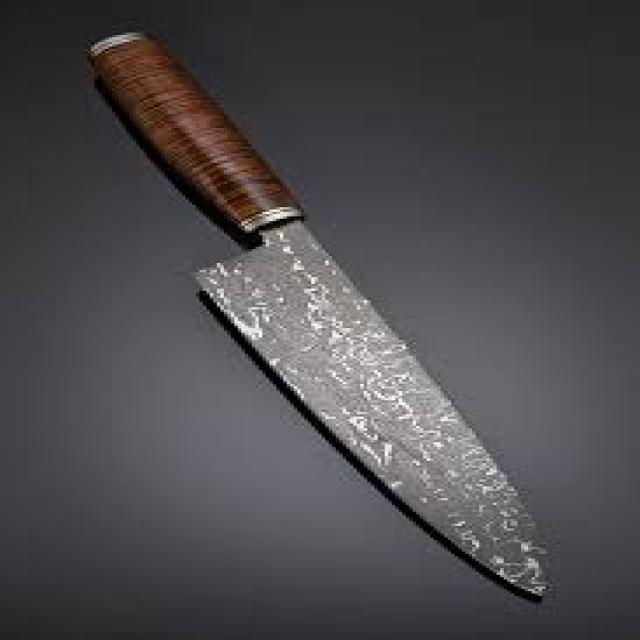knives: (77, 26, 560, 605)
